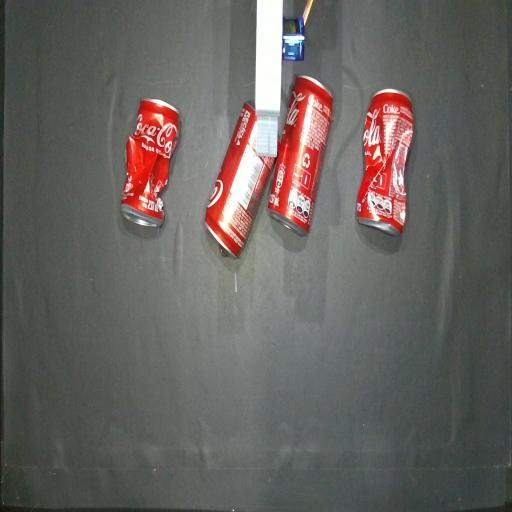lata: (205, 102, 274, 257), (268, 75, 332, 234)
lata_defectuoso: (356, 89, 413, 235), (121, 99, 180, 226)
